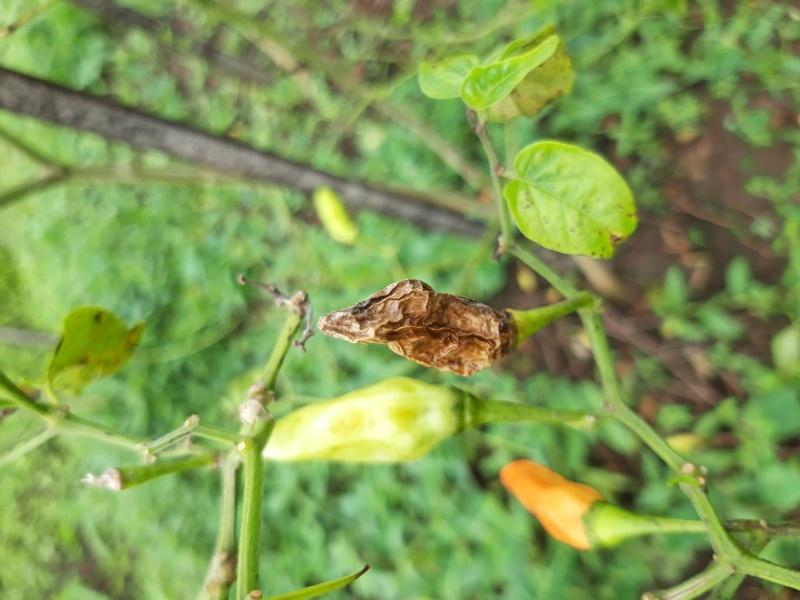antraknosa: (318, 275, 506, 378)
cabai_normal: (240, 377, 466, 464), (501, 461, 603, 549)
